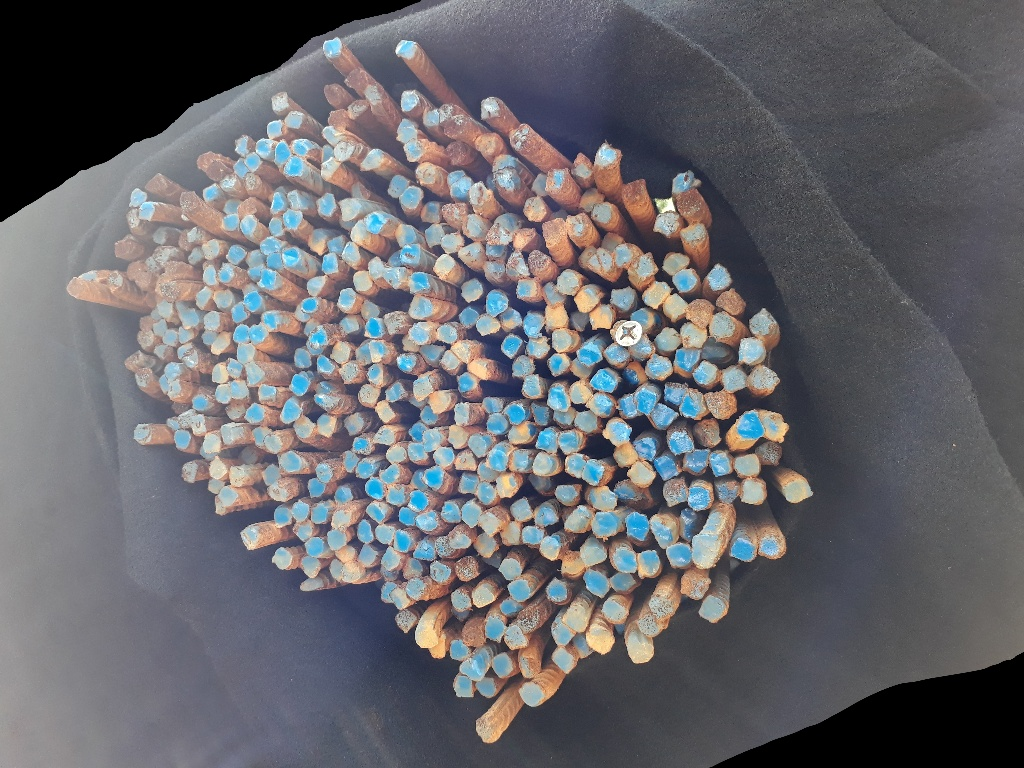dipstick: (747, 365, 779, 392), (692, 537, 719, 568), (583, 569, 611, 598), (650, 516, 677, 546), (680, 572, 709, 599), (476, 717, 504, 744), (586, 628, 614, 654), (716, 290, 746, 314), (749, 309, 776, 335), (564, 506, 590, 533), (542, 219, 566, 248), (737, 414, 764, 439), (694, 419, 719, 446), (623, 179, 647, 207), (704, 393, 732, 417), (628, 462, 656, 486), (784, 480, 813, 503), (720, 367, 746, 392), (741, 479, 766, 505), (602, 600, 628, 625), (581, 539, 605, 566), (644, 280, 669, 305), (646, 355, 671, 380), (683, 450, 708, 475), (700, 596, 725, 621), (595, 143, 621, 167), (677, 190, 701, 216), (710, 312, 734, 338), (731, 538, 757, 562), (629, 639, 655, 663), (765, 414, 788, 441), (709, 451, 732, 478), (626, 513, 649, 540), (681, 323, 706, 347), (739, 338, 764, 362), (653, 403, 678, 427), (655, 455, 679, 480), (552, 648, 576, 673), (681, 392, 704, 418), (546, 168, 568, 195), (679, 510, 697, 542), (494, 169, 519, 192), (707, 265, 730, 290), (655, 327, 680, 350), (662, 481, 687, 504), (591, 487, 616, 510), (687, 299, 709, 325), (665, 293, 687, 319), (634, 387, 655, 414), (703, 339, 731, 359), (408, 296, 432, 319), (575, 288, 599, 311), (757, 442, 781, 465), (614, 549, 637, 573), (547, 387, 570, 411), (521, 683, 544, 707), (504, 626, 527, 650), (456, 557, 479, 581), (589, 394, 614, 416), (534, 504, 559, 526), (506, 251, 527, 277), (610, 287, 636, 308), (759, 538, 785, 559), (508, 423, 534, 444), (476, 133, 503, 153), (655, 211, 678, 234), (592, 513, 615, 536), (577, 342, 601, 364), (668, 431, 692, 453), (423, 467, 445, 491), (681, 224, 706, 245), (605, 422, 630, 443), (511, 123, 531, 149), (675, 349, 701, 369), (523, 199, 546, 221), (536, 430, 558, 453), (694, 362, 718, 383), (638, 551, 659, 575), (492, 653, 513, 677), (522, 375, 542, 400), (554, 620, 574, 645), (610, 574, 636, 593), (688, 488, 710, 510), (509, 450, 531, 472), (546, 579, 568, 601), (462, 279, 483, 302), (635, 254, 656, 277), (590, 307, 613, 328), (606, 343, 629, 364), (667, 545, 690, 566), (624, 363, 647, 384), (565, 608, 586, 631), (463, 623, 484, 646), (395, 610, 416, 633), (472, 587, 495, 608), (404, 140, 428, 160), (421, 201, 441, 225), (735, 455, 759, 475), (501, 522, 521, 546), (415, 162, 437, 183), (556, 272, 578, 293), (611, 321, 633, 342), (615, 444, 636, 466), (448, 426, 469, 448), (511, 499, 532, 521), (475, 535, 497, 556), (673, 170, 696, 190), (545, 306, 568, 326), (551, 329, 571, 352), (719, 480, 739, 503), (617, 395, 637, 418), (592, 372, 615, 392), (507, 581, 530, 601), (281, 400, 300, 424), (573, 153, 592, 177), (562, 552, 581, 576), (615, 483, 640, 501), (662, 252, 688, 269), (360, 149, 381, 170), (397, 120, 418, 141), (434, 255, 455, 276), (580, 187, 601, 208), (544, 286, 565, 307), (548, 354, 569, 375), (634, 439, 655, 460), (479, 514, 500, 535), (674, 270, 696, 290), (639, 615, 661, 635), (556, 486, 578, 506), (520, 656, 540, 678), (416, 628, 438, 648), (441, 501, 461, 523), (367, 502, 387, 524), (378, 463, 400, 483), (590, 250, 609, 273), (583, 461, 602, 484), (416, 512, 439, 531), (308, 230, 326, 254), (565, 453, 583, 477), (531, 403, 549, 427), (462, 504, 480, 528), (444, 116, 465, 136), (446, 142, 466, 163), (384, 268, 405, 288), (486, 293, 506, 314), (576, 411, 596, 432), (487, 449, 507, 470), (476, 677, 497, 697), (461, 660, 482, 680), (501, 559, 521, 580), (497, 476, 517, 497), (480, 97, 499, 119), (442, 203, 464, 222), (463, 214, 482, 236), (514, 229, 536, 248), (651, 597, 673, 616), (506, 403, 525, 425), (406, 578, 425, 600), (430, 561, 449, 583), (330, 510, 352, 529), (241, 527, 260, 549), (454, 451, 476, 470), (453, 403, 471, 426), (268, 482, 291, 500), (344, 70, 369, 86), (331, 343, 351, 363), (513, 355, 533, 375), (528, 338, 548, 358), (571, 360, 591, 380), (569, 384, 589, 404), (390, 590, 410, 610), (281, 451, 301, 471), (401, 91, 420, 112), (388, 175, 407, 196), (401, 189, 422, 208), (291, 375, 310, 396), (344, 413, 363, 434), (503, 310, 522, 331), (529, 251, 550, 270), (632, 338, 653, 357), (487, 413, 506, 434), (540, 537, 559, 558), (450, 592, 471, 611), (365, 479, 384, 500), (339, 198, 357, 220), (245, 362, 263, 384), (441, 233, 463, 251), (469, 435, 487, 457), (485, 618, 503, 640), (381, 547, 399, 569), (413, 542, 435, 560), (313, 395, 339, 410), (576, 633, 591, 659), (324, 83, 343, 103), (396, 39, 416, 58), (366, 212, 386, 231), (430, 392, 450, 411), (612, 246, 631, 266), (559, 433, 579, 452), (523, 526, 543, 545), (403, 559, 422, 579), (300, 557, 320, 576), (409, 492, 429, 511), (387, 485, 406, 505), (458, 473, 478, 492), (211, 333, 229, 354), (479, 317, 500, 335), (524, 314, 542, 335), (664, 383, 685, 401), (455, 677, 473, 698), (359, 545, 377, 566), (477, 483, 495, 504), (318, 194, 335, 216), (383, 312, 400, 334), (210, 456, 227, 478), (318, 415, 335, 437), (503, 335, 520, 357), (534, 452, 551, 474), (292, 500, 309, 522), (357, 520, 373, 543), (323, 38, 342, 57), (450, 641, 469, 660), (305, 538, 324, 557), (293, 520, 312, 539), (376, 401, 394, 421), (469, 360, 489, 378), (273, 549, 291, 569), (433, 448, 453, 466), (145, 174, 166, 191), (487, 225, 508, 242), (567, 214, 584, 235), (385, 446, 406, 463), (423, 429, 440, 450), (516, 280, 538, 296), (373, 428, 395, 444), (288, 191, 307, 209), (283, 210, 302, 228), (307, 278, 326, 296), (360, 300, 378, 319), (237, 343, 255, 362), (295, 417, 313, 436), (339, 364, 358, 382), (413, 379, 431, 398), (398, 225, 416, 244), (484, 261, 503, 279), (452, 344, 470, 363), (342, 563, 360, 582), (327, 531, 346, 549), (375, 526, 393, 545), (436, 537, 454, 556), (328, 110, 348, 127), (336, 142, 356, 159), (322, 254, 339, 274), (359, 385, 379, 402), (426, 224, 443, 244), (633, 313, 653, 330), (310, 504, 327, 524), (409, 424, 429, 441), (347, 100, 368, 116), (230, 465, 246, 486), (410, 470, 426, 491), (356, 344, 371, 366), (394, 530, 409, 552), (227, 245, 245, 263), (181, 310, 199, 328), (354, 271, 372, 289), (126, 351, 144, 369), (115, 239, 132, 258), (397, 354, 416, 371), (452, 177, 469, 196), (499, 599, 518, 616), (353, 438, 372, 455), (498, 215, 521, 229), (66, 278, 82, 298), (272, 91, 288, 111), (212, 363, 228, 383), (460, 242, 480, 258), (322, 127, 343, 142), (351, 221, 366, 242), (182, 461, 197, 482), (482, 398, 503, 413), (529, 475, 550, 490), (276, 139, 289, 163), (300, 578, 324, 591), (370, 340, 384, 362), (431, 637, 445, 659), (285, 111, 302, 129), (203, 312, 220, 330), (339, 289, 356, 307), (317, 356, 335, 373), (136, 369, 154, 386), (134, 423, 151, 441), (459, 308, 476, 326), (274, 508, 291, 526), (356, 461, 373, 479), (409, 444, 427, 461), (420, 406, 437, 424), (107, 270, 123, 289), (161, 283, 180, 299), (204, 240, 220, 259), (246, 293, 262, 312), (262, 312, 278, 331), (385, 384, 404, 400), (368, 364, 383, 384), (420, 345, 440, 360), (263, 464, 278, 484), (493, 155, 514, 169), (129, 189, 146, 206), (322, 159, 339, 176), (294, 349, 311, 366), (245, 404, 262, 421), (203, 435, 220, 452), (402, 245, 419, 262), (335, 487, 352, 504), (478, 465, 495, 482), (181, 192, 197, 210), (208, 162, 224, 180), (266, 120, 282, 138), (203, 184, 221, 200), (421, 107, 437, 125), (269, 218, 285, 236), (246, 250, 264, 266), (214, 291, 232, 307), (342, 242, 358, 260), (365, 319, 381, 337), (137, 330, 153, 348), (214, 384, 230, 402), (219, 488, 237, 504), (264, 435, 282, 451), (457, 374, 475, 390), (399, 508, 415, 526), (307, 479, 323, 497), (369, 257, 382, 279), (554, 412, 576, 425), (261, 238, 280, 253), (257, 385, 276, 400), (482, 553, 501, 568), (317, 464, 332, 483), (342, 452, 357, 471), (335, 547, 355, 561), (314, 382, 337, 394), (439, 102, 452, 123), (366, 87, 383, 103), (351, 183, 368, 199), (240, 216, 256, 233), (249, 325, 266, 341), (231, 381, 247, 398), (178, 410, 194, 427), (410, 326, 427, 342), (232, 304, 247, 322), (292, 302, 307, 320), (226, 404, 244, 419), (442, 351, 460, 366), (595, 203, 610, 221), (197, 288, 211, 307), (340, 317, 359, 331), (227, 358, 241, 377), (381, 582, 394, 602), (223, 214, 239, 230), (257, 138, 272, 155), (283, 247, 298, 264), (219, 266, 236, 281), (203, 267, 218, 284), (533, 173, 544, 196), (601, 233, 622, 245), (246, 154, 261, 170), (261, 271, 277, 286), (162, 330, 178, 345), (178, 327, 193, 343), (233, 326, 248, 342), (193, 415, 205, 435), (208, 479, 224, 494), (330, 559, 342, 579), (239, 200, 256, 214), (153, 227, 167, 244), (165, 261, 179, 278), (329, 236, 343, 253), (184, 350, 198, 367), (154, 345, 172, 358), (168, 380, 181, 398), (166, 361, 179, 379), (127, 209, 139, 228), (271, 193, 283, 212), (380, 569, 399, 581), (451, 536, 470, 548), (222, 174, 238, 188), (311, 330, 327, 344), (175, 431, 189, 447), (439, 326, 453, 342), (221, 425, 234, 442), (388, 249, 401, 266), (236, 135, 248, 153), (294, 141, 309, 155), (177, 344, 192, 358), (189, 248, 202, 264), (191, 396, 207, 409), (486, 246, 504, 257), (139, 204, 153, 218), (189, 228, 203, 242), (254, 429, 268, 443), (153, 247, 168, 260), (248, 267, 263, 280), (403, 337, 416, 352), (320, 147, 333, 161), (128, 263, 142, 276), (136, 273, 150, 286), (267, 254, 281, 267), (159, 303, 173, 316), (139, 316, 153, 329), (153, 321, 166, 335), (179, 229, 188, 249), (301, 300, 317, 311), (198, 153, 210, 167), (235, 160, 246, 175), (224, 200, 239, 211), (146, 259, 161, 270), (579, 246, 595, 256), (305, 320, 316, 334), (159, 374, 167, 393), (203, 330, 213, 345), (213, 496, 221, 514), (200, 453, 216, 460), (151, 308, 160, 320)
